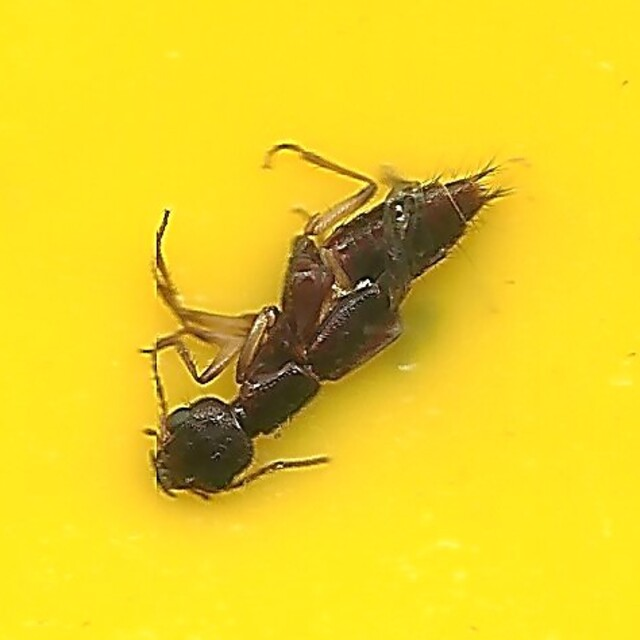Coleoptera: (135, 137, 505, 503)
